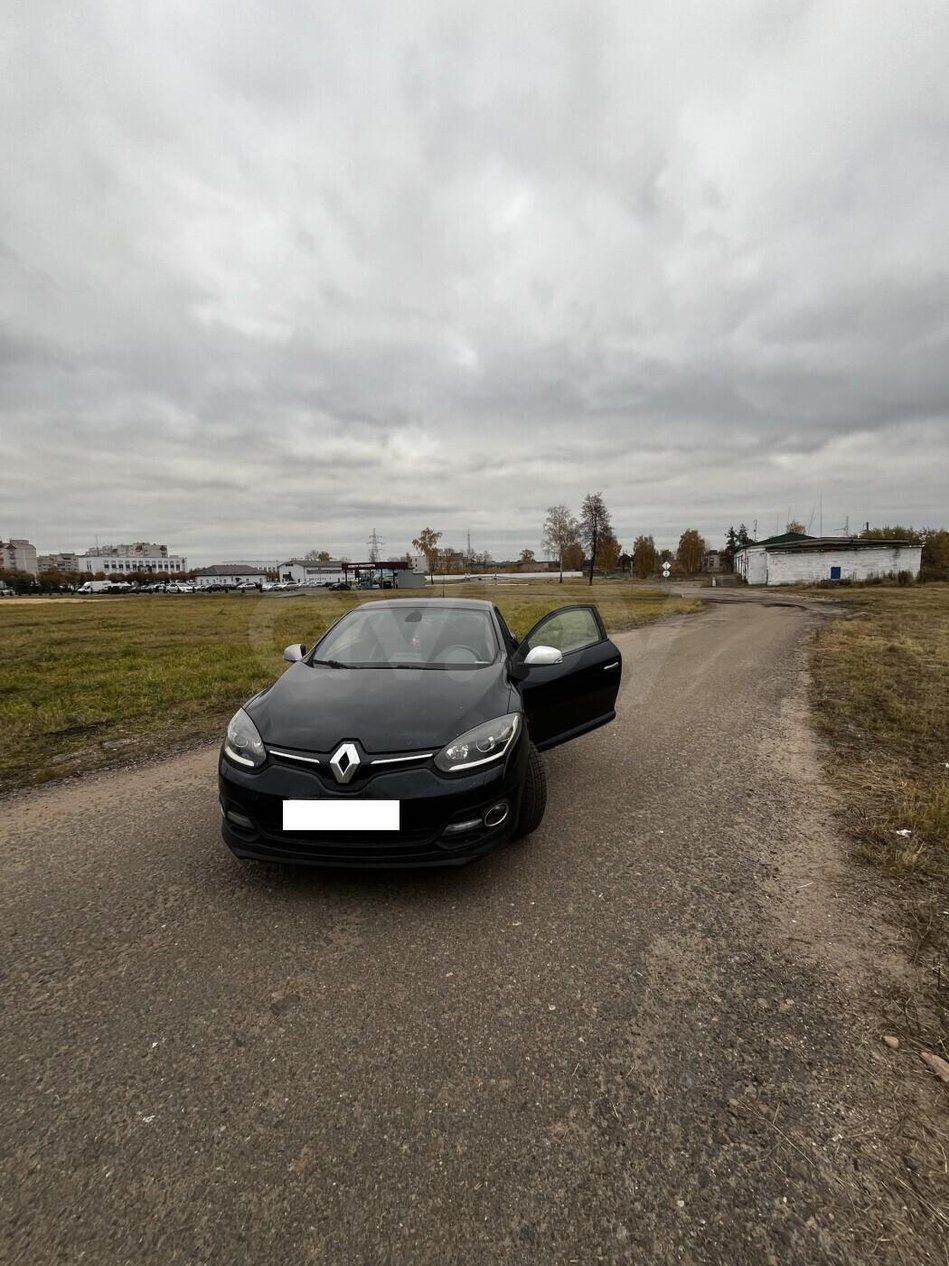Megane_2008-2014: (219, 588, 622, 886)
